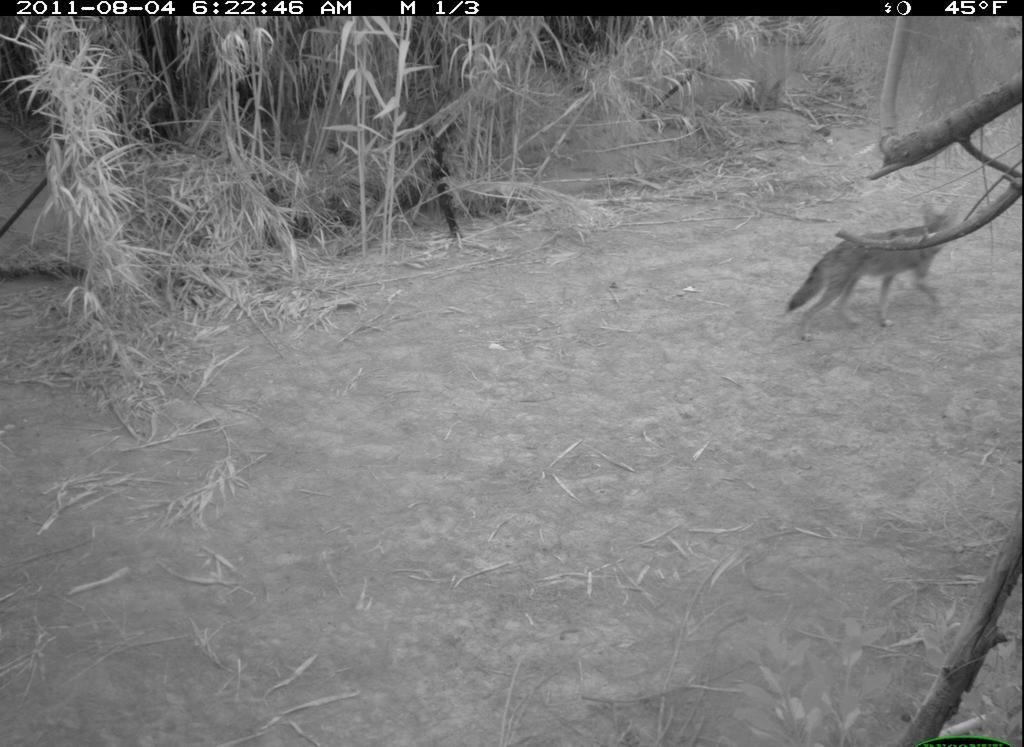coyote: (785, 198, 968, 337)
